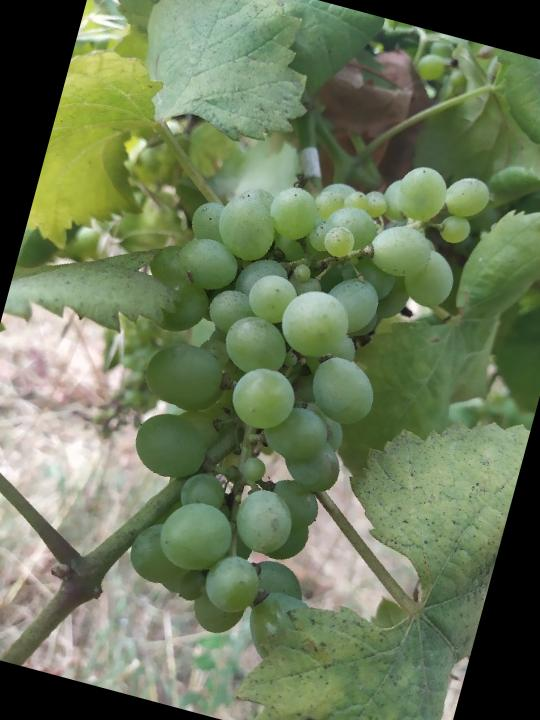grape: (61, 98, 497, 678)
